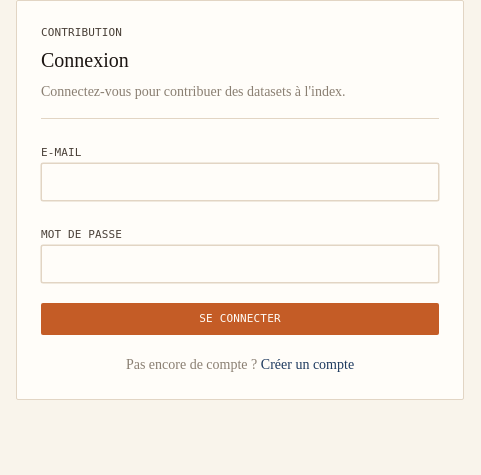
Test: ResearcherLoginForm (Story 3.4) › refuse un compte désactivé sans ouvrir de session
This screenshot has width=481, height=475.
Type "kofi@example.com" into the field labelled "E-mail" at (240, 182), box left=41, top=162, right=439, bottom=200
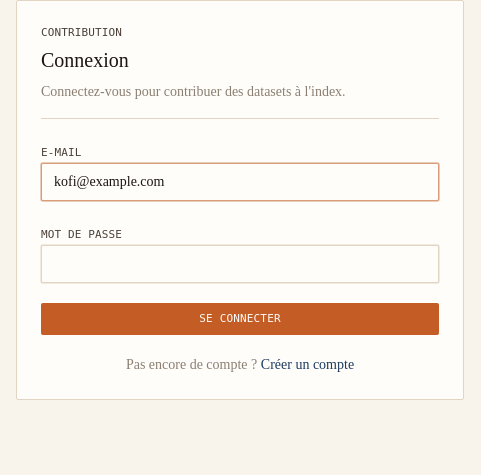
Type "password123" into the password field labelled "Mot de passe" at (240, 264), box left=41, top=244, right=439, bottom=282
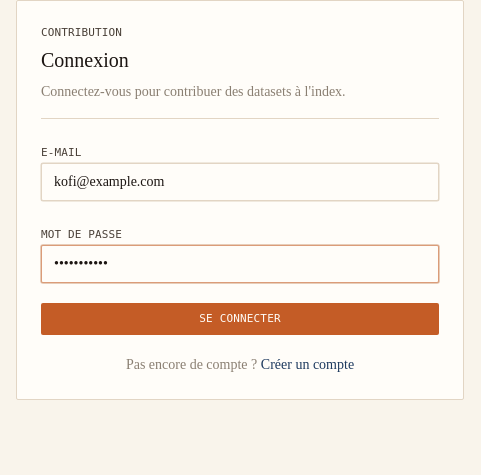
Click the button "Se connecter" at (240, 319), box left=41, top=302, right=439, bottom=335
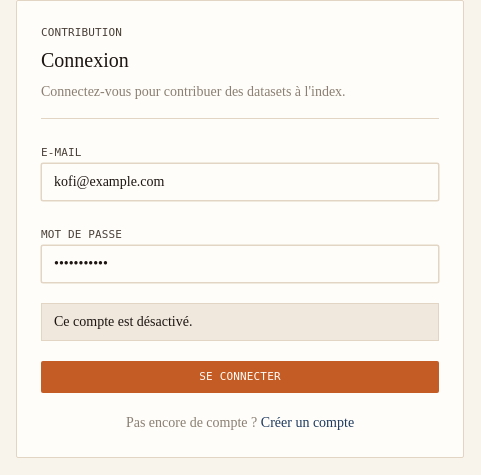
Now the text "Ce compte est désactivé." is shown, box left=41, top=302, right=439, bottom=340
